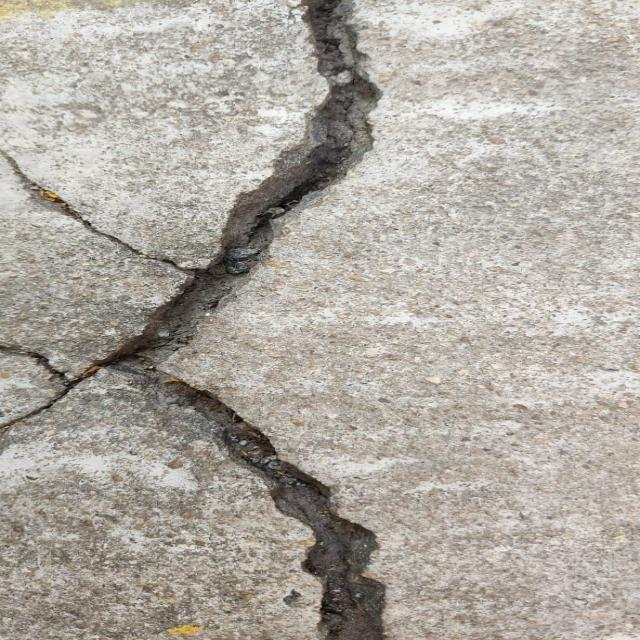diagonal crack: (0, 149, 185, 272)
vertical crack: (70, 0, 401, 640)
